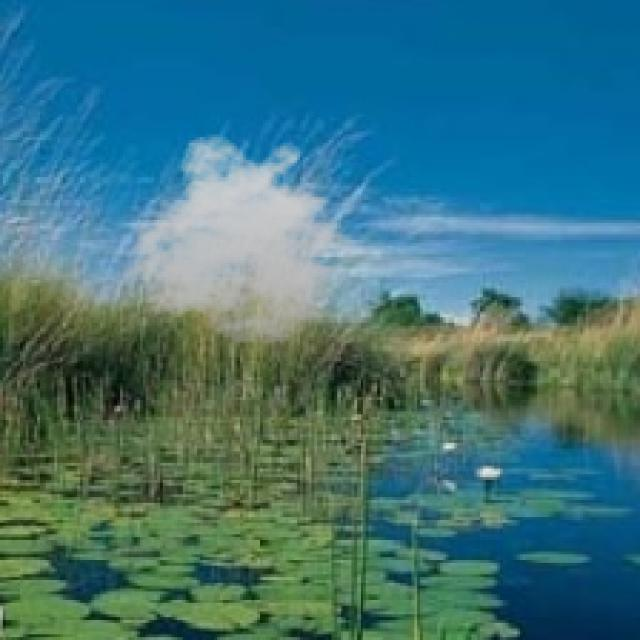Smoke: (122, 134, 372, 346)
